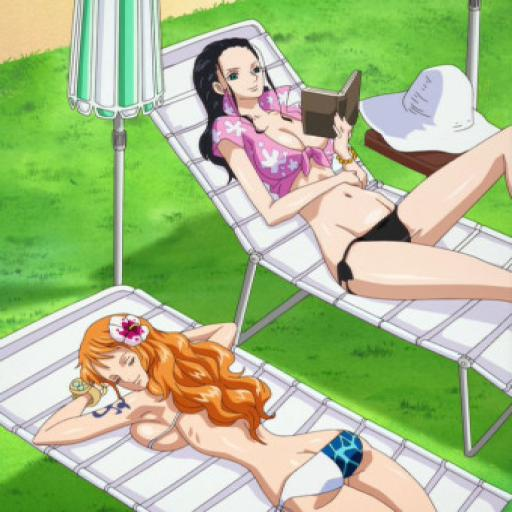Nami: (78, 296, 199, 398)
NicoRobin: (186, 41, 278, 134)
